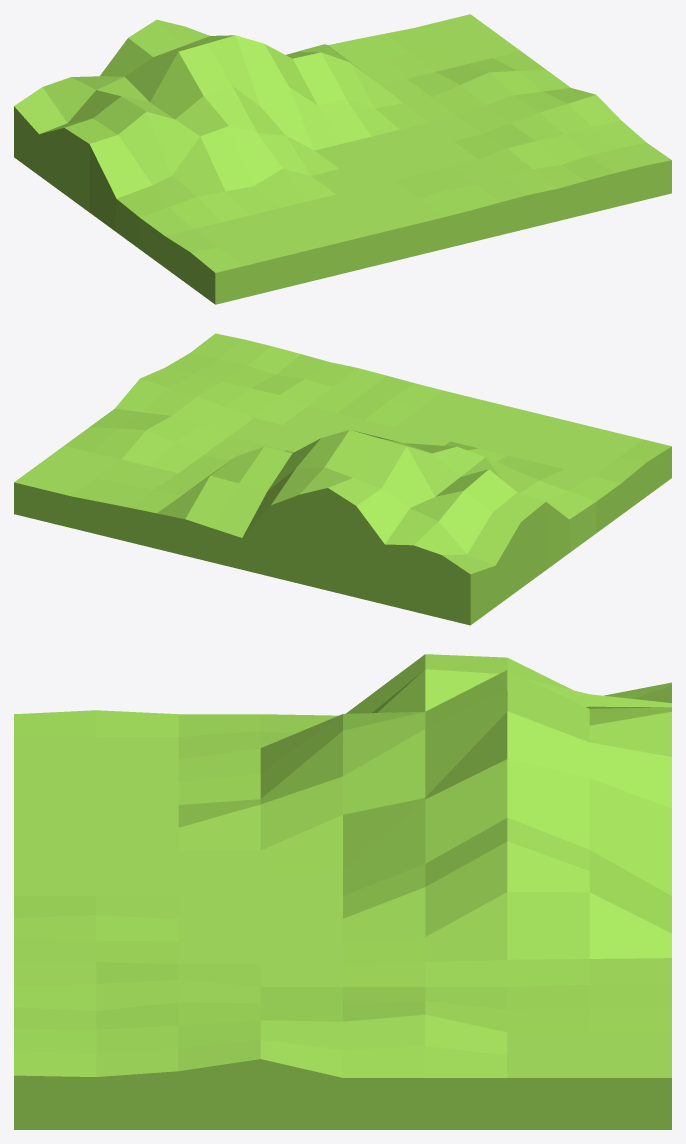
The picture shows the model from 3 angles, top to bottom: view 1: azimuth 30°, elevation 25°; view 2: azimuth 150°, elevation 25°; view 3: azimuth 270°, elevation 25°; orthographic projection. The views are drawn at different scales.
Parts seen in each view (by area): view 1: 3/2; view 2: 3/2; view 3: 3/2.
Boxes of the visible parts, left/top/right/bottom form: 3/2: left=14, top=14, right=671, bottom=304; 3/2: left=14, top=333, right=671, bottom=625; 3/2: left=14, top=654, right=671, bottom=1129.
Size of the model in its own units: 5338 by 1308 by 4080.
